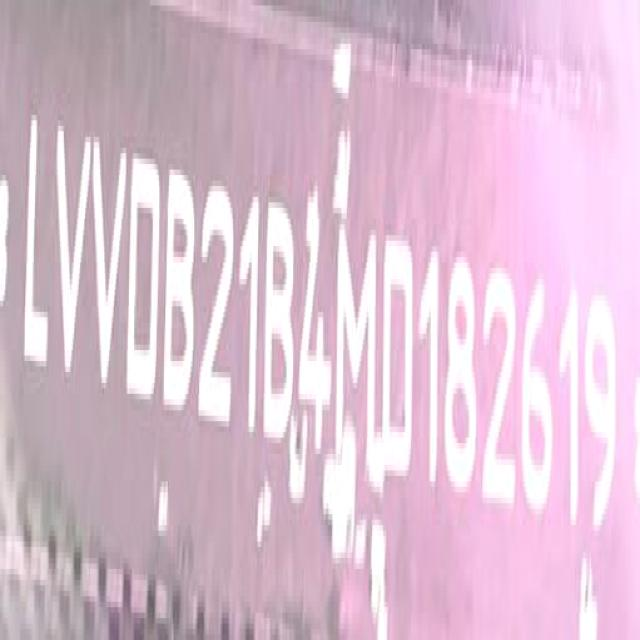1: (556, 286, 582, 534), (419, 245, 443, 495), (237, 192, 259, 444)
2: (482, 268, 522, 518), (201, 182, 237, 437)
4: (298, 205, 334, 486)
6: (522, 279, 555, 524)
8: (446, 257, 480, 503)
9: (588, 294, 621, 540)
B: (164, 168, 198, 424), (264, 195, 297, 458)
D: (378, 235, 420, 500), (129, 148, 164, 412)
L: (22, 112, 52, 379)
M: (333, 221, 376, 490)
V: (51, 116, 90, 390), (93, 128, 129, 402)
